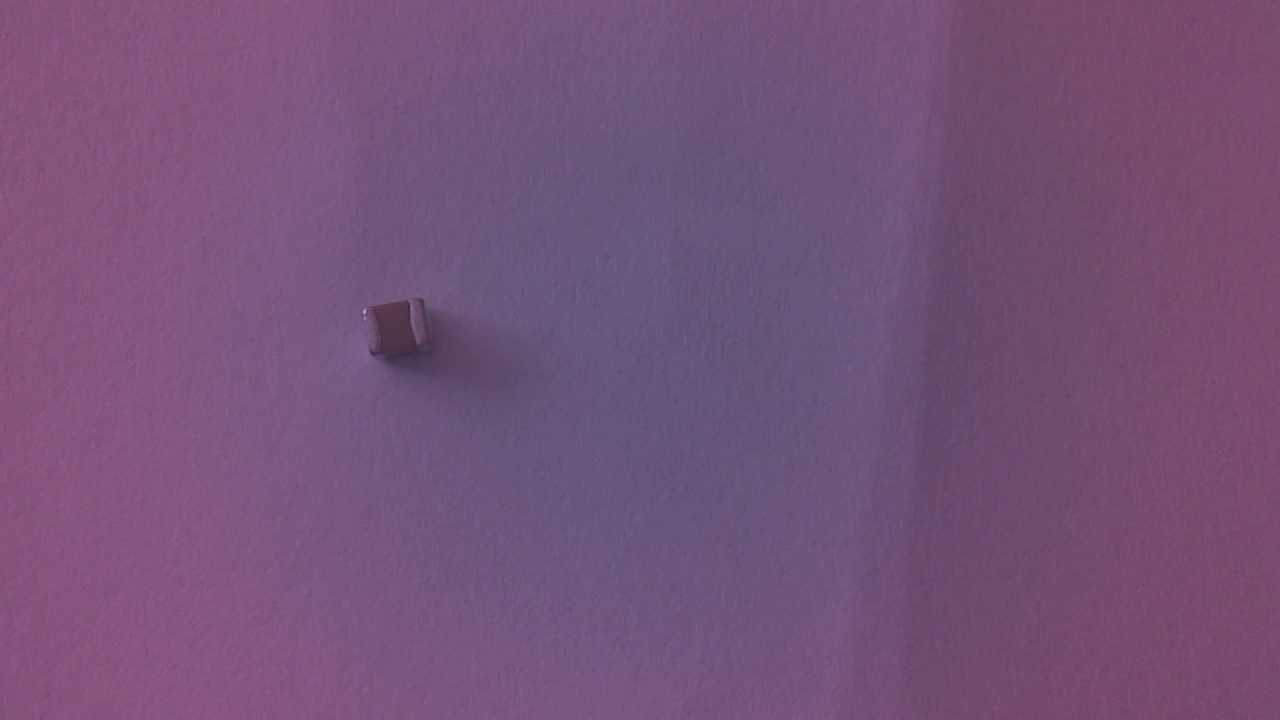Condensator: (363, 299, 444, 370)
